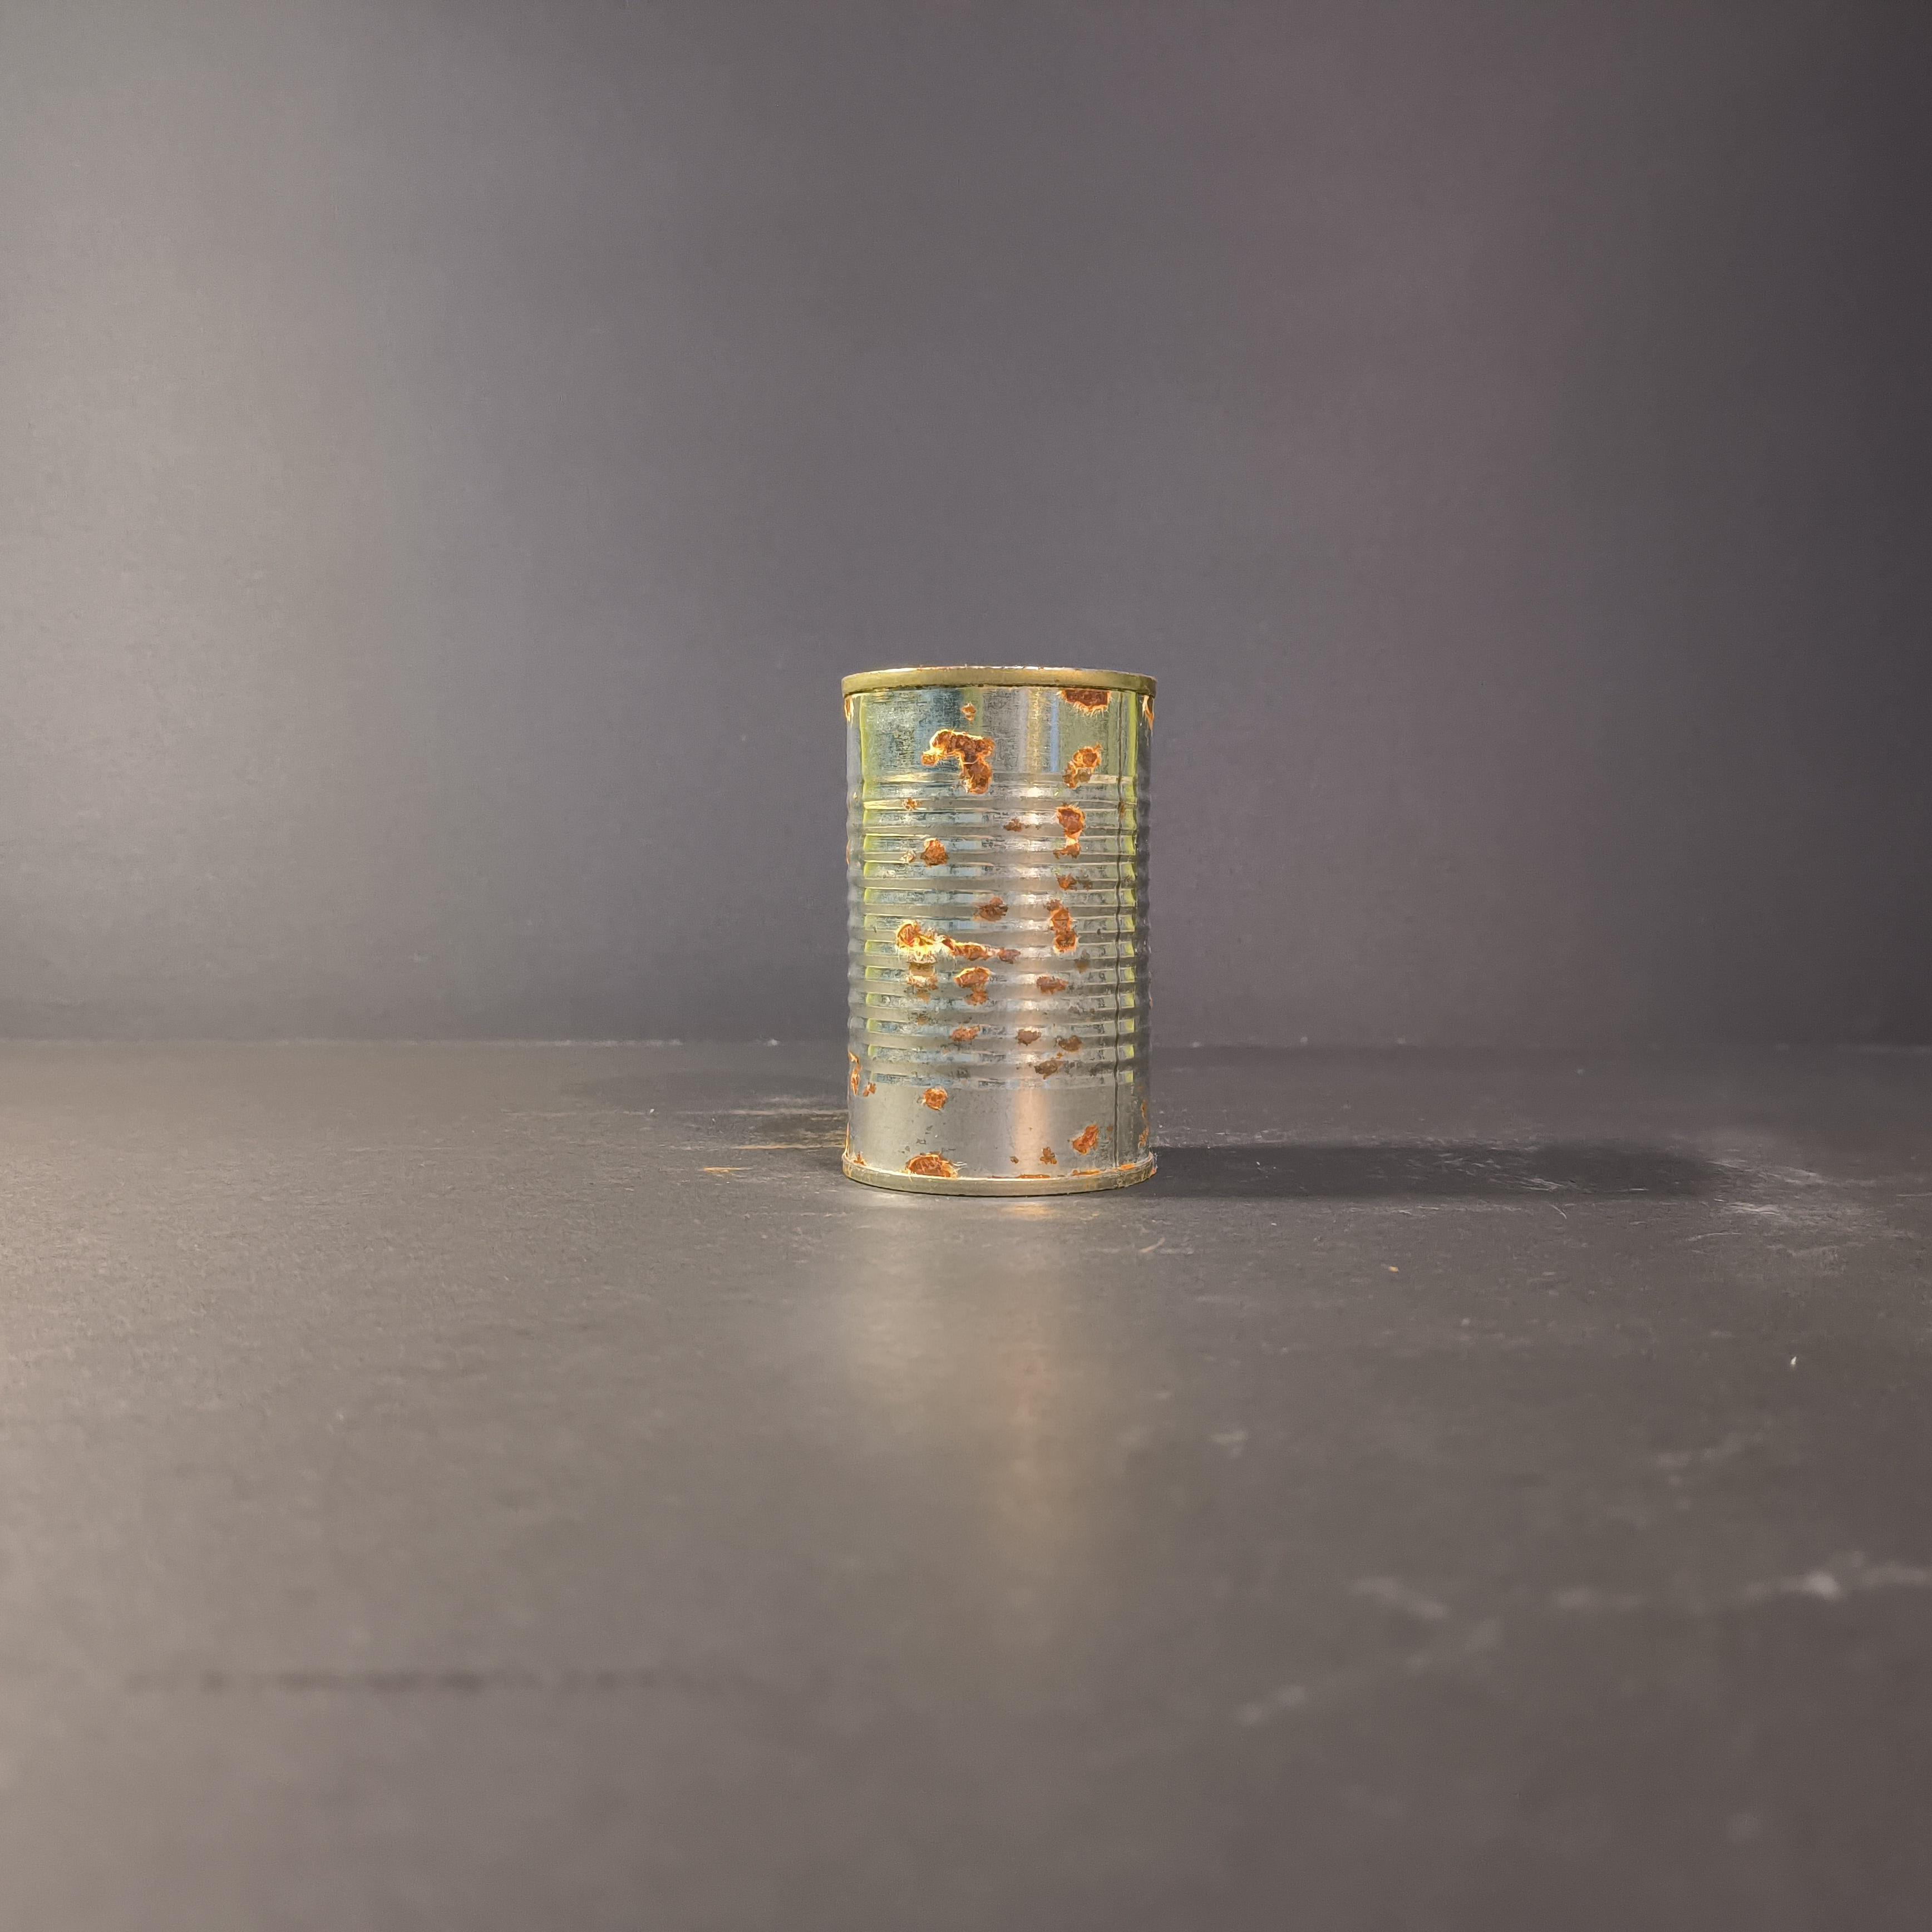Rusted: (830, 628, 1175, 1215)
